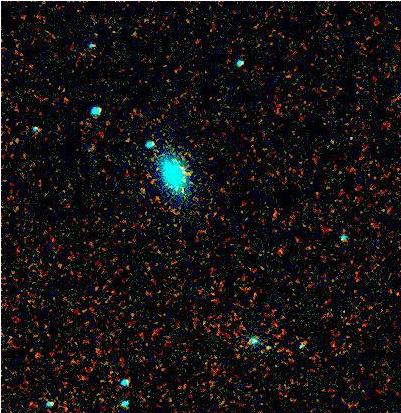star: (269, 239, 299, 269)
